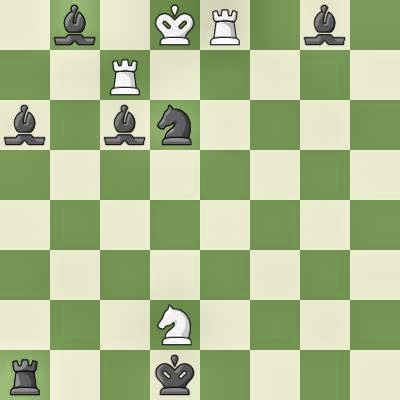black-bishop: (50, 0, 100, 50), (300, 0, 350, 50), (0, 100, 50, 150), (100, 100, 150, 150)
black-king: (150, 350, 200, 400)
black-knight: (150, 100, 200, 150)
black-rook: (0, 350, 50, 400)
white-king: (150, 0, 200, 50)
white-knight: (150, 300, 200, 350)
white-rook: (200, 0, 250, 50), (100, 50, 150, 100)
